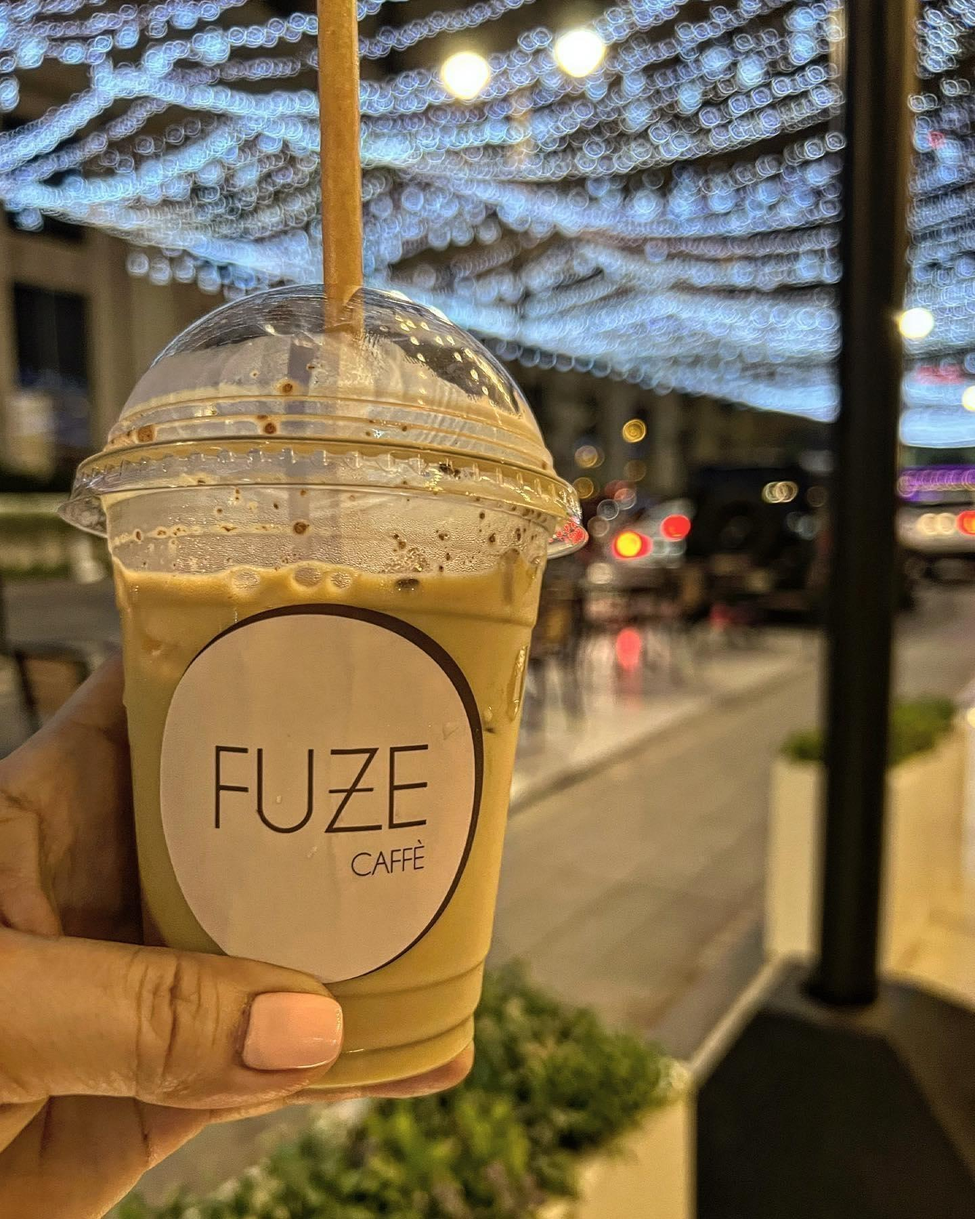cup-disposable: (78, 276, 581, 1105)
